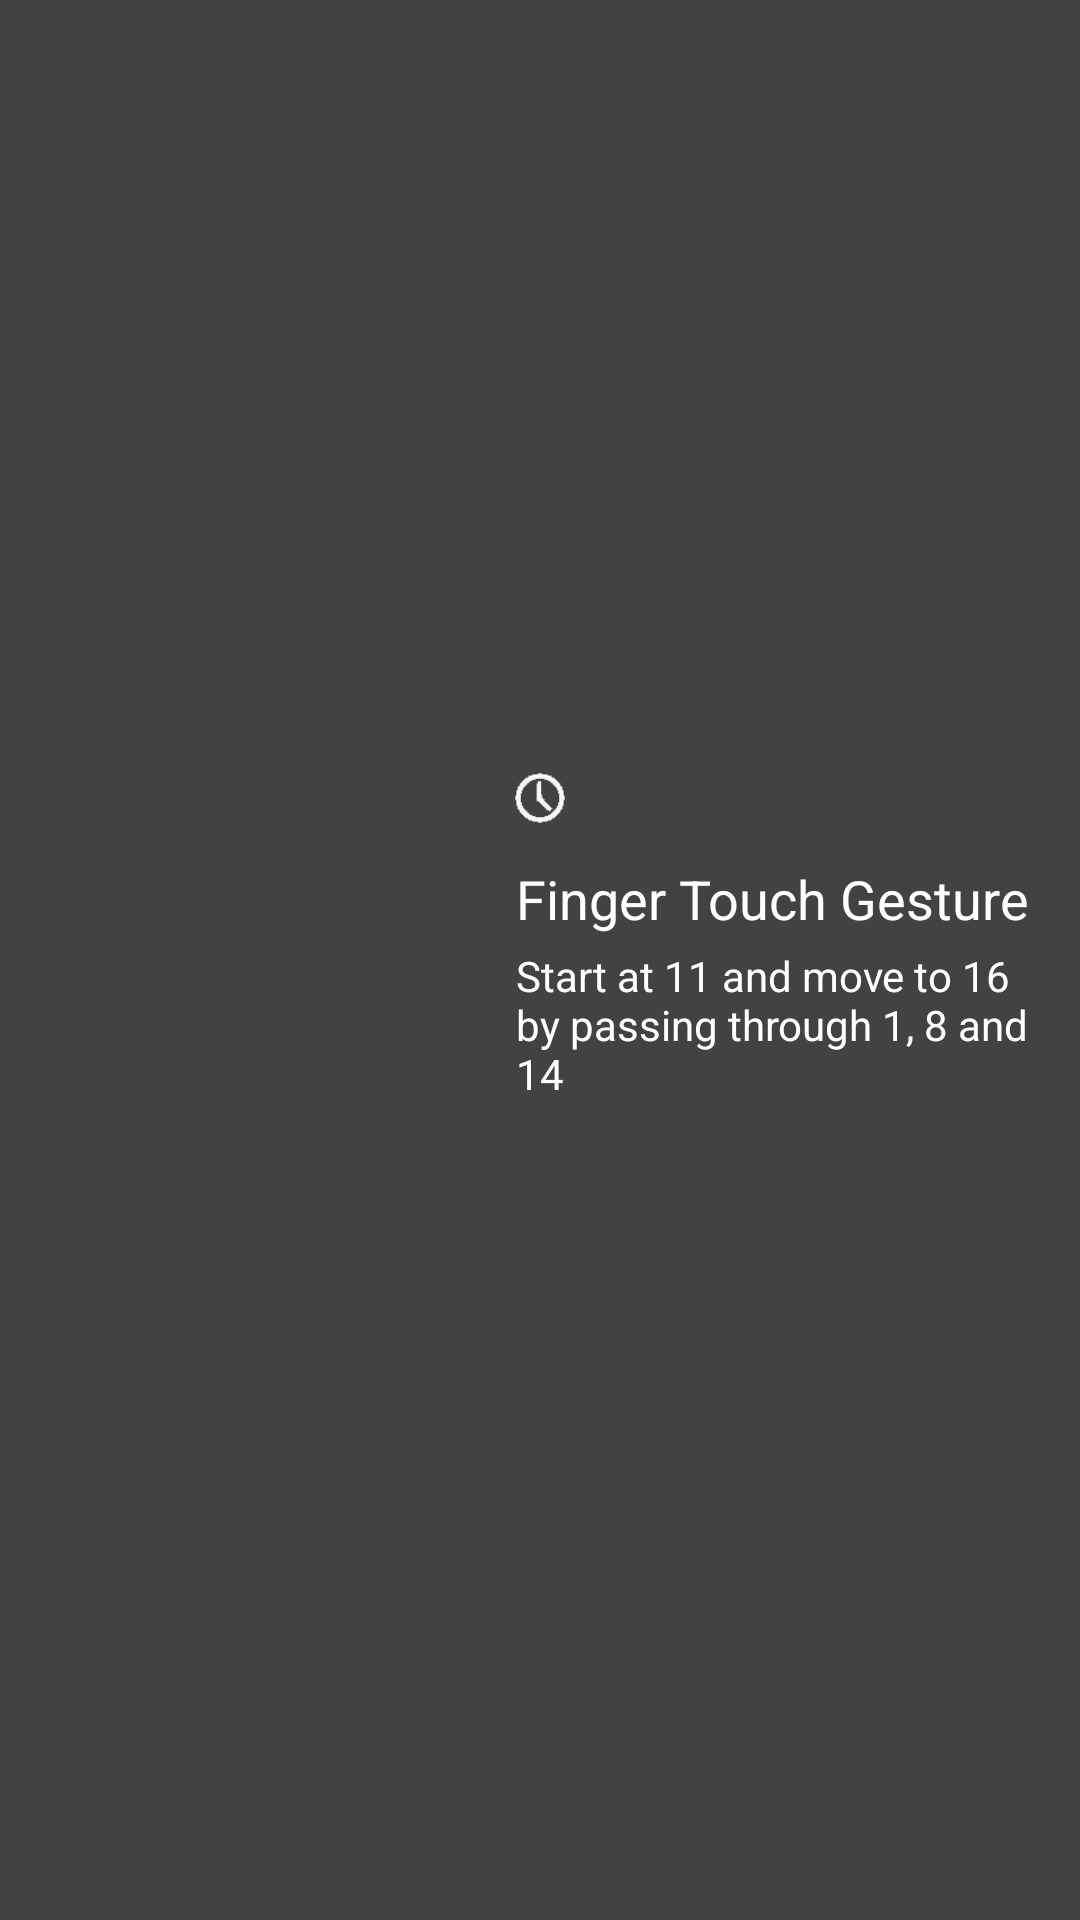

Point at icon controls on the screen. Image size 1080px x 1920px, points as (x=x, y=y).
Timing Icon: (x=540, y=798)
